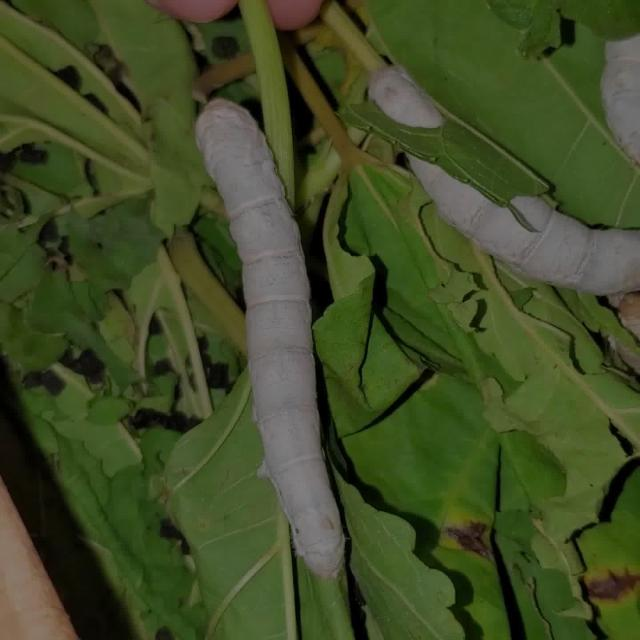Healthy: (175, 75, 385, 600), (364, 16, 640, 328)
